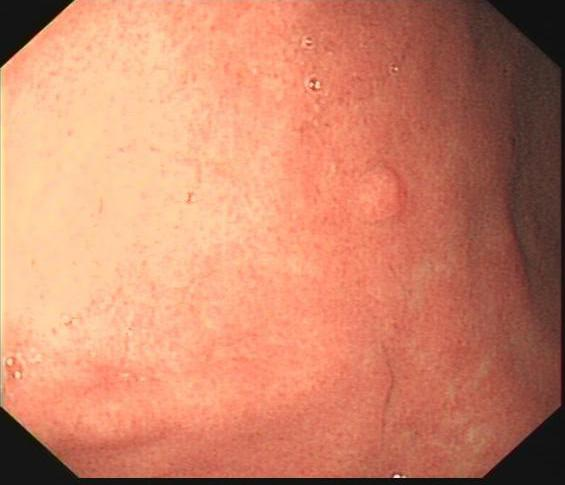Polyp: (330, 138, 417, 235)
